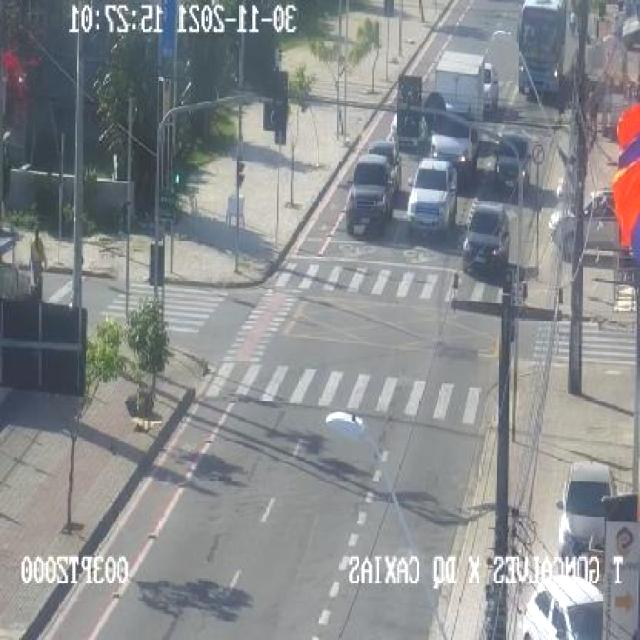Bus: (511, 0, 579, 112)
Car: (549, 187, 636, 267), (513, 564, 603, 640), (557, 459, 616, 559), (337, 151, 400, 243), (407, 158, 456, 235), (459, 202, 512, 272), (487, 135, 539, 189)
Truck: (416, 54, 489, 167)
